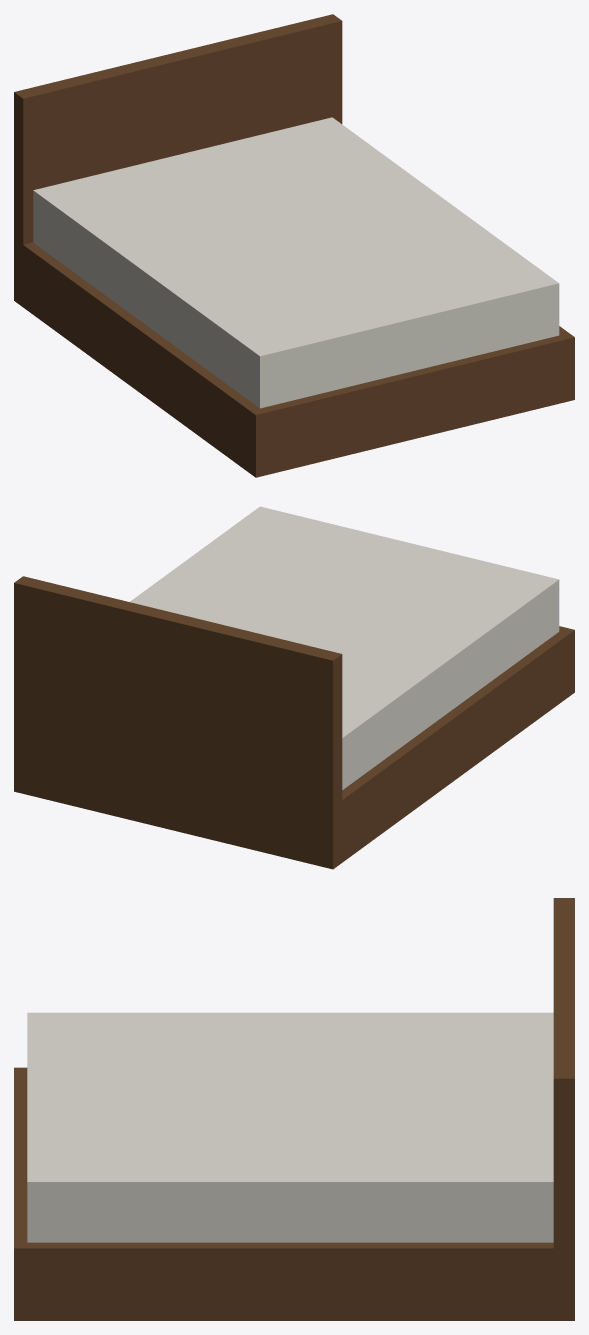
File: bed.obj
The picture shows the model from 3 angles, top to bottom: view 1: azimuth 30°, elevation 25°; view 2: azimuth 150°, elevation 25°; view 3: azimuth 270°, elevation 25°; orthographic projection. The views are drawn at different scales.
Visible parts, largest first — view 1: Mattress, Frame, Headboard; view 2: Headboard, Mattress, Frame; view 3: Mattress, Frame, Headboard.
Part boxes in pixels (<box>): Mattress: <box>33,117,559,408</box>; Frame: <box>14,238,574,477</box>; Headboard: <box>14,14,342,305</box>; Headboard: <box>14,576,342,868</box>; Mattress: <box>130,506,559,789</box>; Frame: <box>14,626,574,869</box>; Mattress: <box>27,1012,553,1242</box>; Frame: <box>14,1067,574,1320</box>; Headboard: <box>553,898,574,1320</box>.
Size of the model in its own units: 1.6 by 1 by 2.1.
